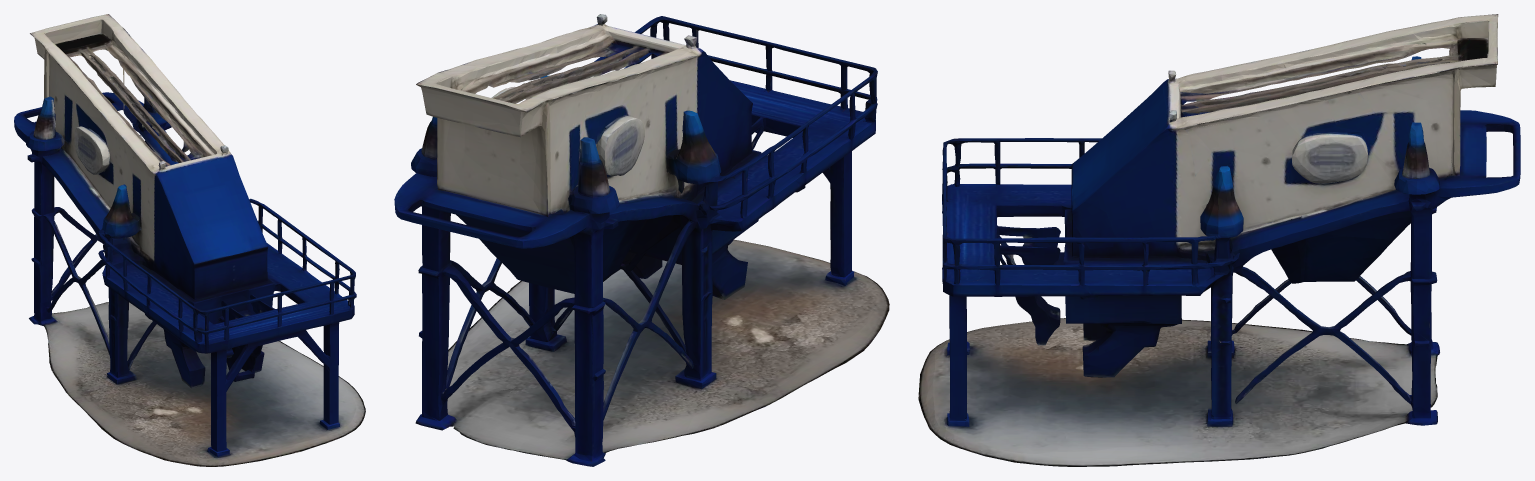
The model's file is vibrating_screen.glb.
3 views of the same model, side by side, from view 1: azimuth 30°, elevation 25°; view 2: azimuth 150°, elevation 25°; view 3: azimuth 270°, elevation 25° (orthographic). The views are drawn at different scales.
Visible parts, largest first — view 1: geometry_0; view 2: geometry_0; view 3: geometry_0.
Boxes of the visible parts, <box> form: geometry_0: <box>14,14,365,466</box>; geometry_0: <box>394,14,889,466</box>; geometry_0: <box>918,14,1520,466</box>.
Bounding box in the file's own units: 0.5854 × 0.647 × 0.9961.
Materials: 1 (1 with a texture image).
